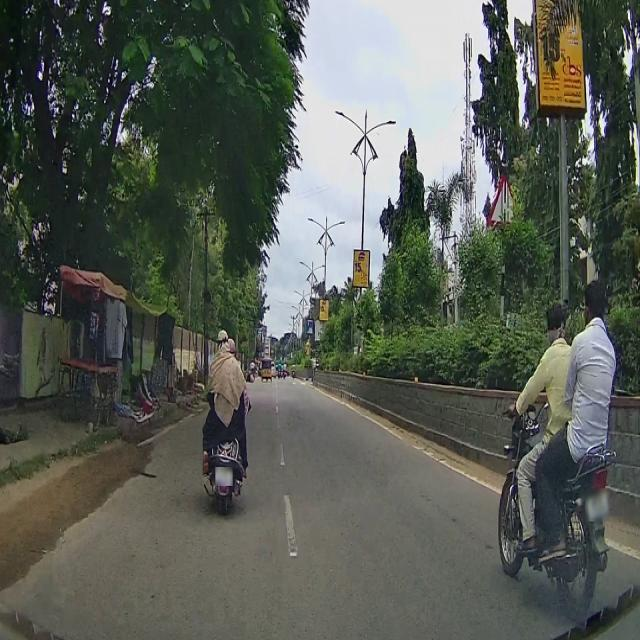gap-in-median: (489, 173, 518, 224)
